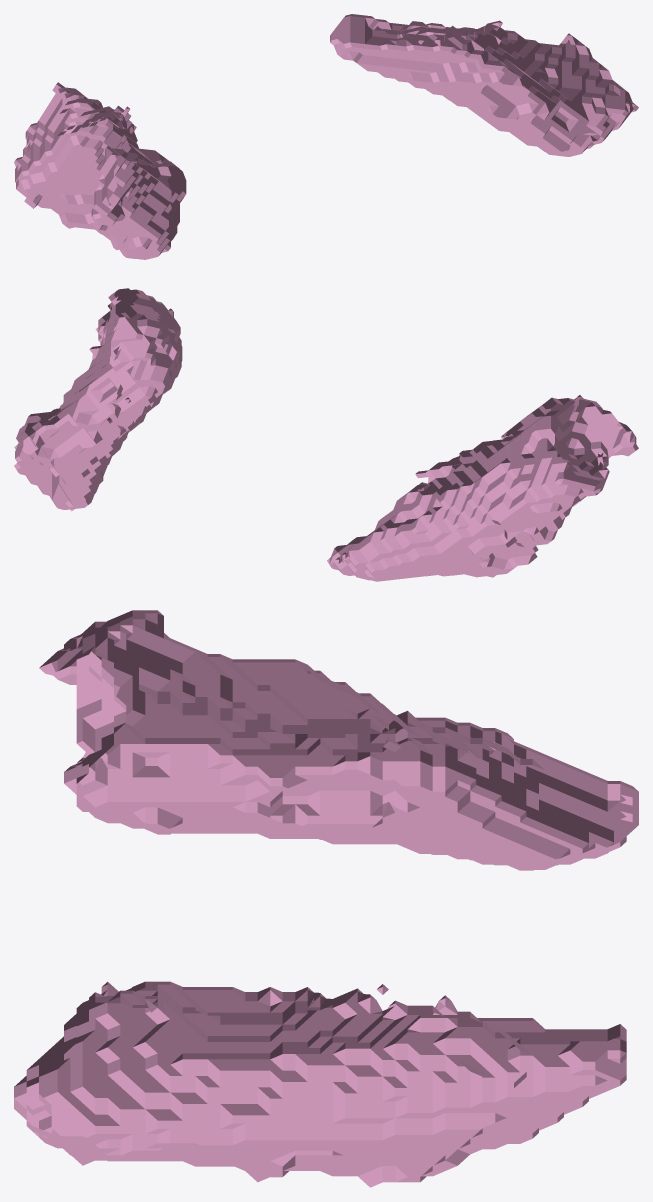
File: region_0042_DOT__dorsomedial_optic_tract_.glb
3 views of the same model, one above another, from view 1: azimuth 30°, elevation 25°; view 2: azimuth 150°, elevation 25°; view 3: azimuth 270°, elevation 25° (orthographic). The views are drawn at different scales.
Parts seen in each view (by area): view 1: world; view 2: world; view 3: world.
Boxes of the visible parts, bbox=[...] form: world: bbox=[14, 14, 638, 259]; world: bbox=[14, 288, 638, 581]; world: bbox=[14, 610, 638, 1187].
Bounding box in the file's own units: 0.68 × 0.136 × 0.4.
